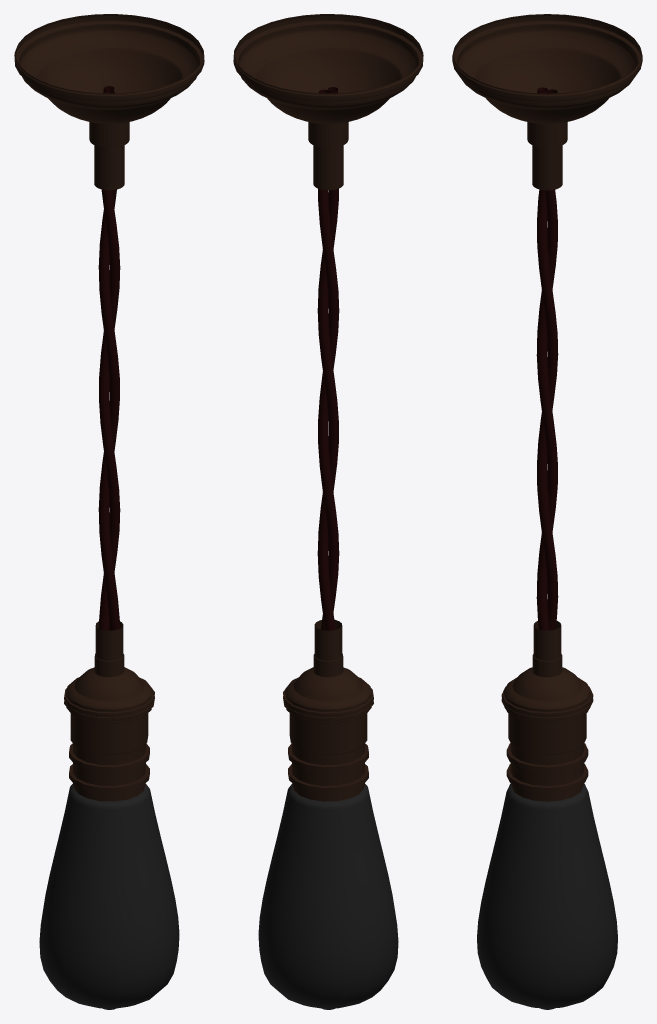
The model's file is Light_.FBX.
3 renders of one model, left to right at view 1: azimuth 30°, elevation 25°; view 2: azimuth 150°, elevation 25°; view 3: azimuth 270°, elevation 25°, orthographic.
Parts seen in each view (by area): view 1: Light002, Line1789529585, Line1789529583, Line1789529582; view 2: Light002, Line1789529585, Line1789529583, Line1789529582; view 3: Light002, Line1789529585, Line1789529583, Line1789529582.
Part boxes in pixels (x1=…): Light002: x1=39, y1=784, x2=179, y2=1009; Line1789529585: x1=14, y1=14, x2=204, y2=190; Line1789529583: x1=64, y1=621, x2=154, y2=801; Line1789529582: x1=98, y1=86, x2=120, y2=630; Light002: x1=258, y1=784, x2=398, y2=1009; Line1789529585: x1=233, y1=14, x2=423, y2=190; Line1789529583: x1=283, y1=619, x2=373, y2=801; Line1789529582: x1=317, y1=87, x2=339, y2=630; Light002: x1=477, y1=783, x2=617, y2=1009; Line1789529585: x1=452, y1=14, x2=642, y2=190; Line1789529583: x1=501, y1=621, x2=593, y2=801; Line1789529582: x1=536, y1=87, x2=558, y2=630.
Bounding box in the file's own units: 103 × 571 × 103.
